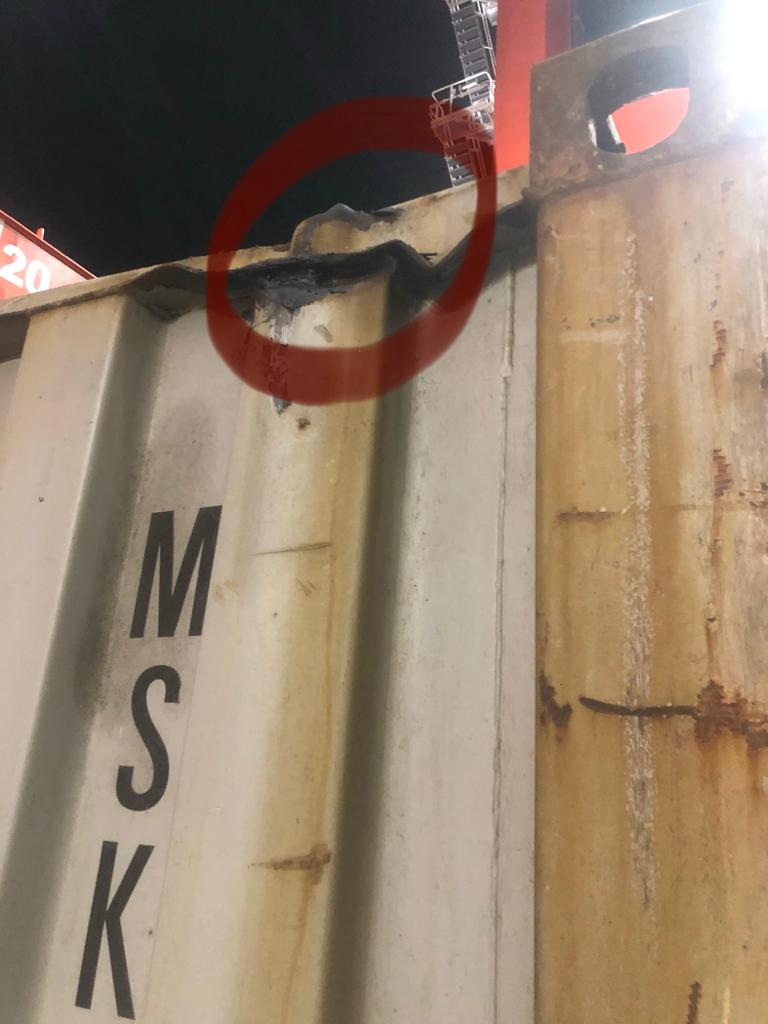severe: (189, 182, 447, 355)
